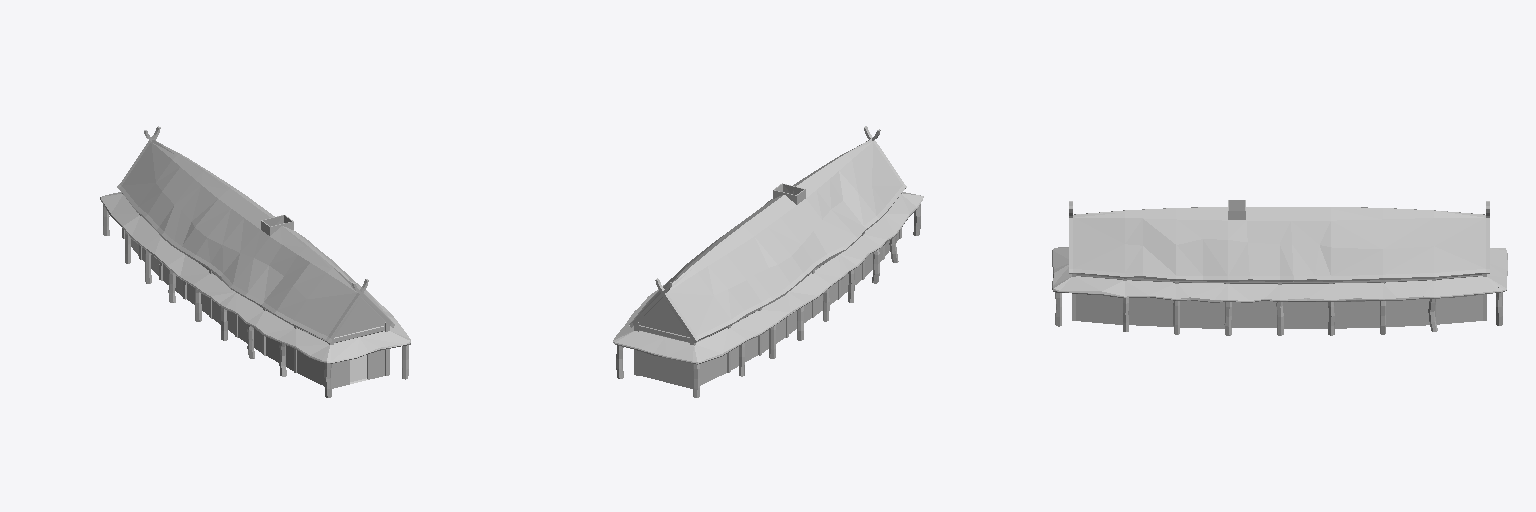
File: Longhouse_LOD01.obj
3 views of the same model, side by side, from view 1: azimuth 30°, elevation 25°; view 2: azimuth 150°, elevation 25°; view 3: azimuth 270°, elevation 25° (orthographic).
Visible parts, largest first — view 1: Longhouse_LOD01; view 2: Longhouse_LOD01; view 3: Longhouse_LOD01.
Boxes of the visible parts, <box> form: Longhouse_LOD01: <box>100,126,410,397</box>; Longhouse_LOD01: <box>613,126,923,397</box>; Longhouse_LOD01: <box>1052,200,1507,335</box>.
Bounding box in the file's own units: 7.11 × 5.48 × 22.16.